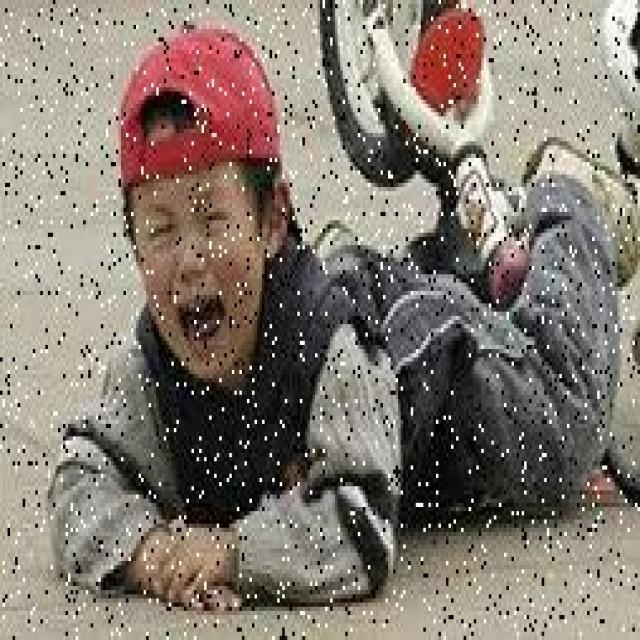fall: (60, 142, 612, 602)
